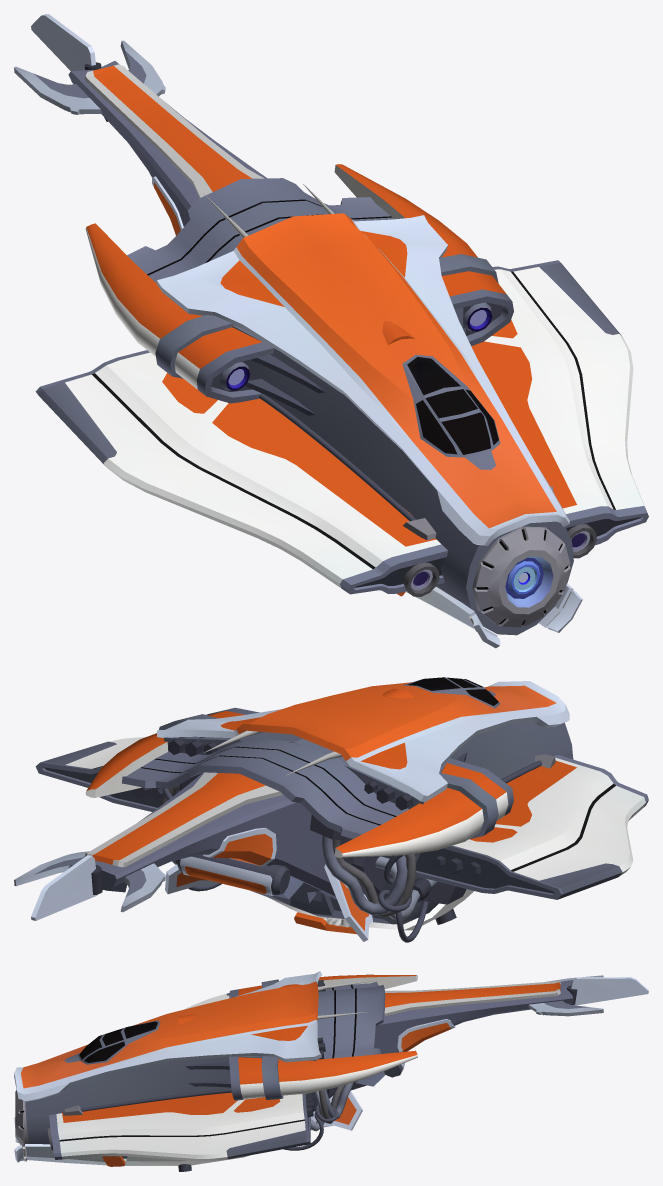
File: spaceship.glb
3 renders of one model, top to bottom at view 1: azimuth 30°, elevation 25°; view 2: azimuth 150°, elevation 25°; view 3: azimuth 270°, elevation 25°, orthographic. The views are drawn at different scales.
Parts seen in each view (by area): view 1: Plane.009, Cube.005, Cylinder, Cube, Plane.001, Cylinder.001, Cube.016, Plane.004, Cube.001, Cylinder.006, Cube.004, Cube.009 (+5 smaller); view 2: Plane.009, Cube.005, Plane.001, Cylinder, Cube.001, Cube, Cube.016, BezierCurve, Cube.002, Cube.004, Cylinder.009, Cube.008 (+12 smaller); view 3: Cube.005, Plane.009, Cube, Cylinder, Plane.001, Cube.001, Cube.016, Cube.002, Cube.009, Plane.004, BezierCurve.001, Cube.018 (+8 smaller).
Part boxes in pixels (bbox=[...]): Plane.009: bbox=[35, 260, 648, 594]; Cube.005: bbox=[157, 213, 569, 545]; Cylinder: bbox=[85, 164, 513, 403]; Cube: bbox=[232, 325, 573, 635]; Plane.001: bbox=[127, 178, 393, 283]; Cylinder.001: bbox=[472, 526, 570, 627]; Cube.016: bbox=[85, 64, 264, 198]; Plane.004: bbox=[402, 354, 500, 457]; Cube.001: bbox=[68, 61, 266, 226]; Cylinder.006: bbox=[155, 254, 498, 378]; Cube.004: bbox=[14, 40, 165, 114]; Cube.009: bbox=[405, 583, 582, 648]; Plane.009: bbox=[35, 736, 648, 899]; Cube.005: bbox=[157, 681, 569, 802]; Plane.001: bbox=[122, 738, 409, 838]; Cylinder: bbox=[85, 707, 513, 857]; Cube.001: bbox=[68, 772, 336, 899]; Cube: bbox=[164, 721, 573, 924]; Cube.016: bbox=[85, 772, 283, 867]; BezierCurve: bbox=[161, 784, 437, 919]; Cube.002: bbox=[31, 855, 97, 920]; Cube.004: bbox=[14, 851, 165, 912]; Cylinder.009: bbox=[120, 737, 480, 878]; Cube.008: bbox=[165, 864, 372, 941]; Cube.005: bbox=[14, 971, 321, 1101]; Plane.009: bbox=[49, 993, 311, 1161]; Cube: bbox=[25, 1056, 316, 1158]; Cylinder: bbox=[229, 974, 417, 1100]; Plane.001: bbox=[317, 981, 385, 1058]; Cube.001: bbox=[353, 982, 573, 1083]; Cube.016: bbox=[384, 980, 560, 1016]; Cube.002: bbox=[571, 977, 648, 1005]; Cube.009: bbox=[14, 1117, 249, 1165]; Plane.004: bbox=[78, 1020, 160, 1064]; BezierCurve.001: bbox=[80, 1088, 338, 1150]; Cube.018: bbox=[397, 1019, 455, 1052].
Size of the model in its own units: 845 by 438 by 1383.
Materials: 1 (1 with a texture image).
